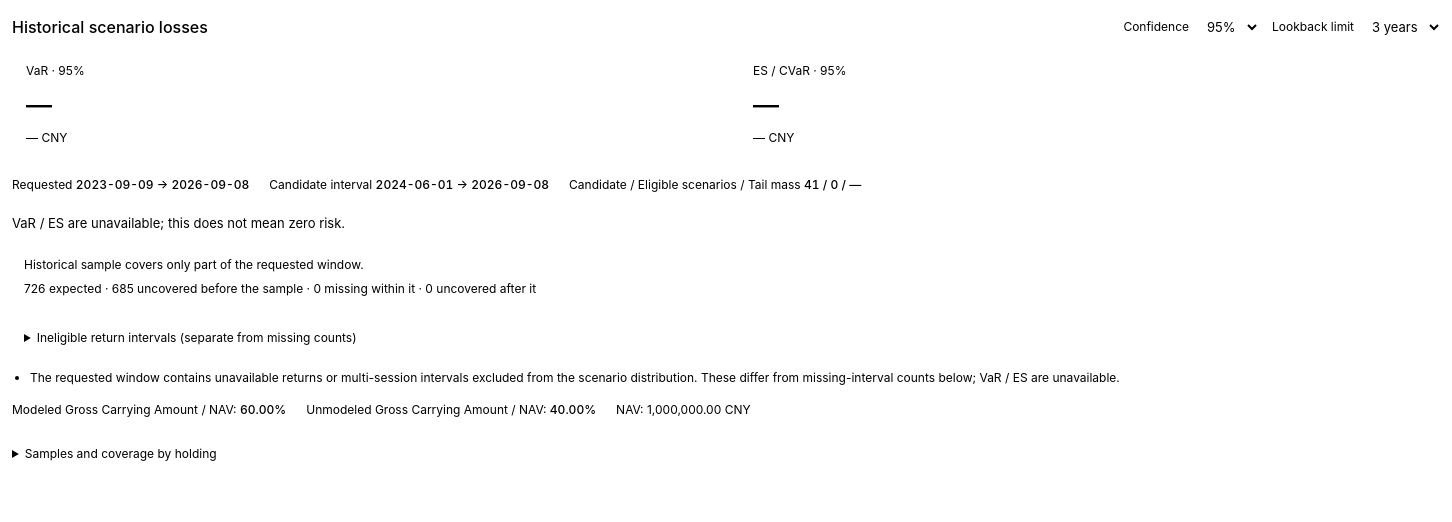
Test case: separates blocked candidate scenarios from eligible samples and unavailable tail mass
Check: the text "41 / 0 / —" is shown, box [804,177,861,192]
Check: the list item "These differ from missing-interval counts" is shown, box [30,370,1120,385]
Click the heading "Ineligible return intervals (separate from missing counts)" at coordinates (197, 337), box [37,330,356,345]
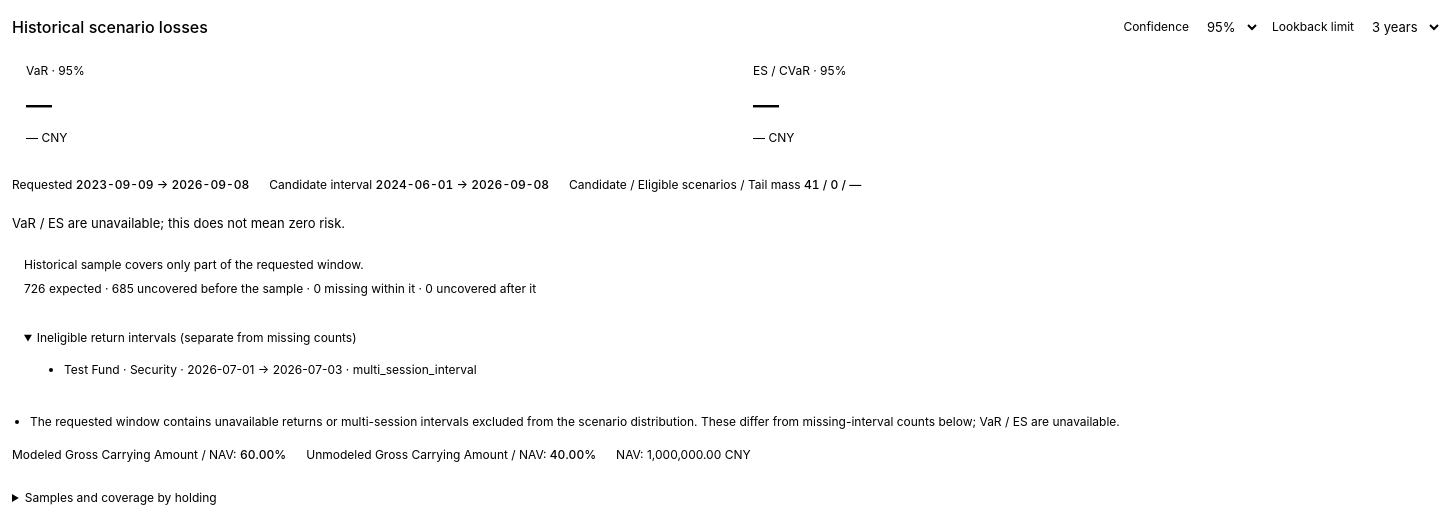
Check: the list item "2026-07-01 → 2026-07-03" shows "Test Fund", box [64,362,120,377]
